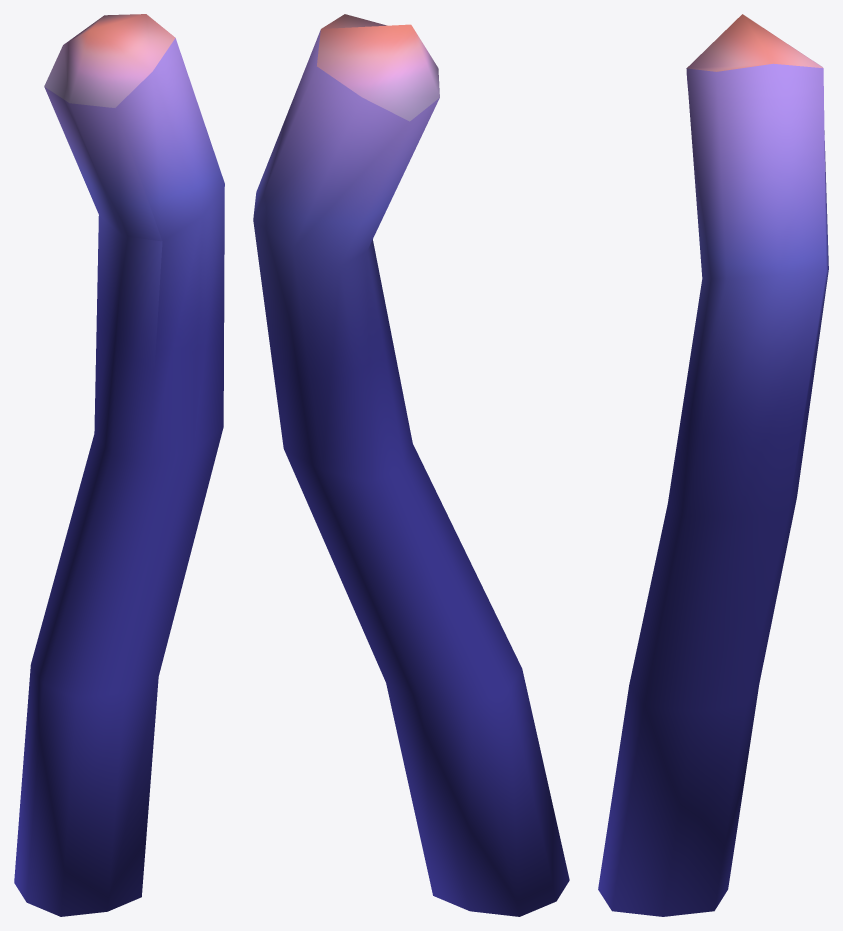
File: GroundCover1.001.fbx
3 views of the same model, side by side, from view 1: azimuth 30°, elevation 25°; view 2: azimuth 150°, elevation 25°; view 3: azimuth 270°, elevation 25° (orthographic). The views are drawn at different scales.
Parts seen in each view (by area): view 1: Stem.014; view 2: Stem.014; view 3: Stem.014.
Boxes of the visible parts, x1,y1,x2,y2 form: Stem.014: (14, 14, 224, 916); Stem.014: (253, 14, 569, 916); Stem.014: (598, 14, 828, 916).
Size of the model in its own units: 57.99 by 200 by 46.4.
Materials: 1 (1 with a texture image).
